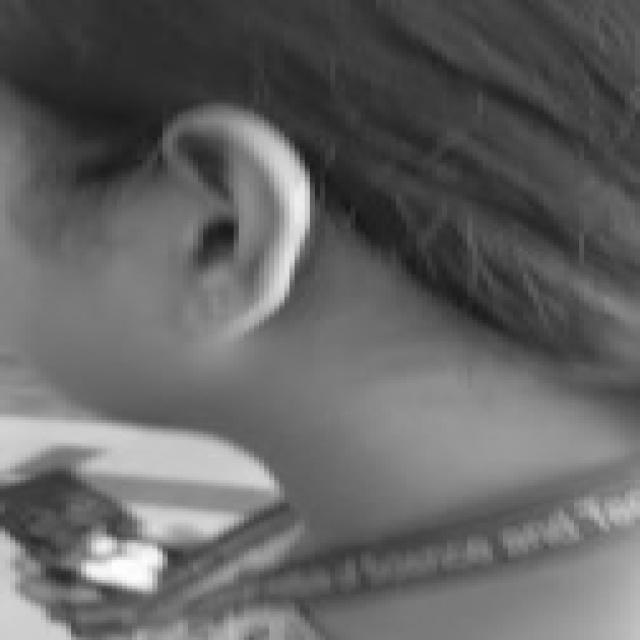ear: (163, 106, 310, 331)
